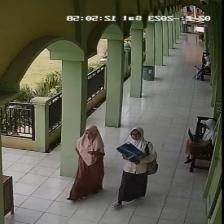HijabSyar-i: (114, 127, 156, 167), (71, 124, 106, 165)
